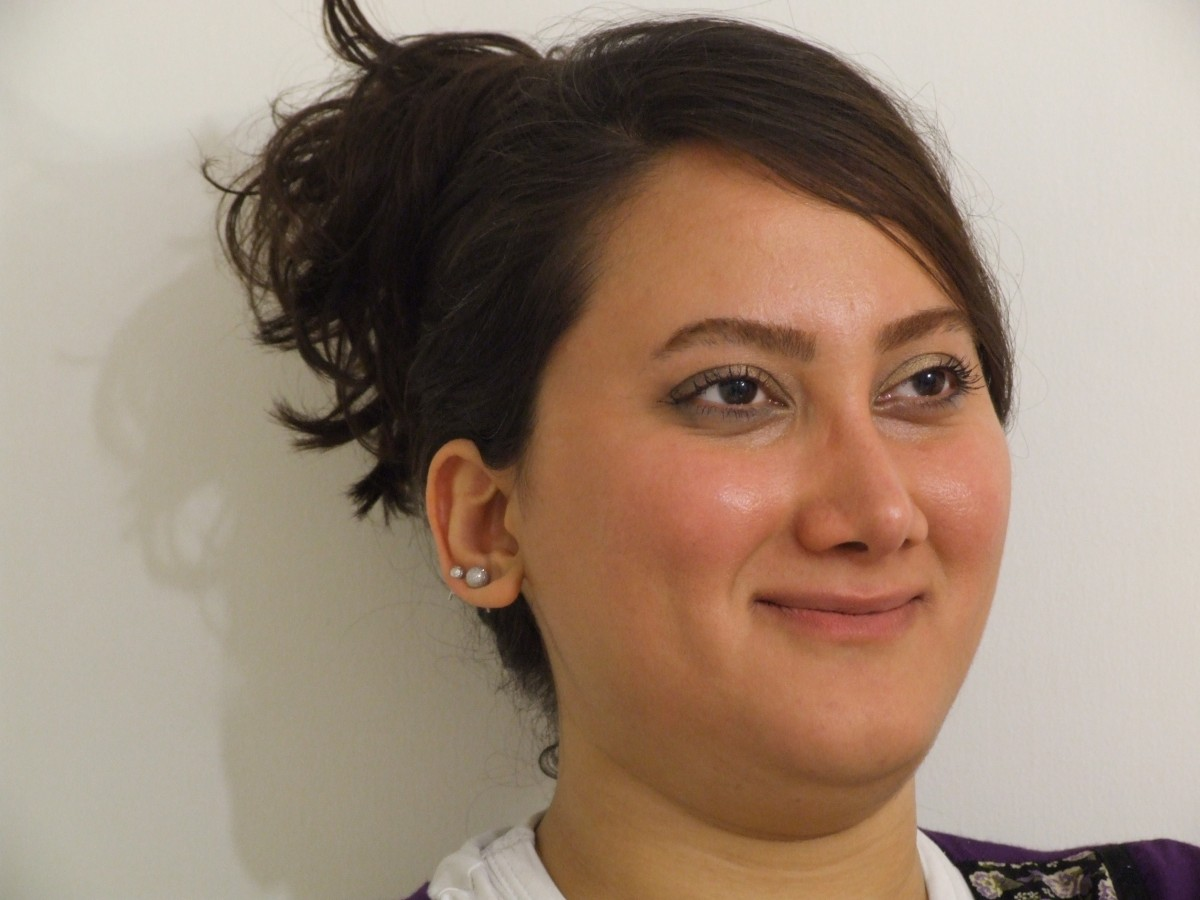occhiaia: (642, 412, 814, 472), (871, 407, 996, 451)
